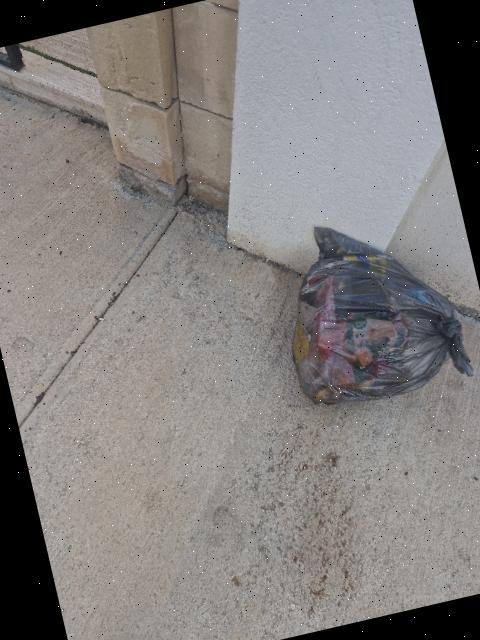Recyclable -Grey-: (292, 226, 473, 403)
